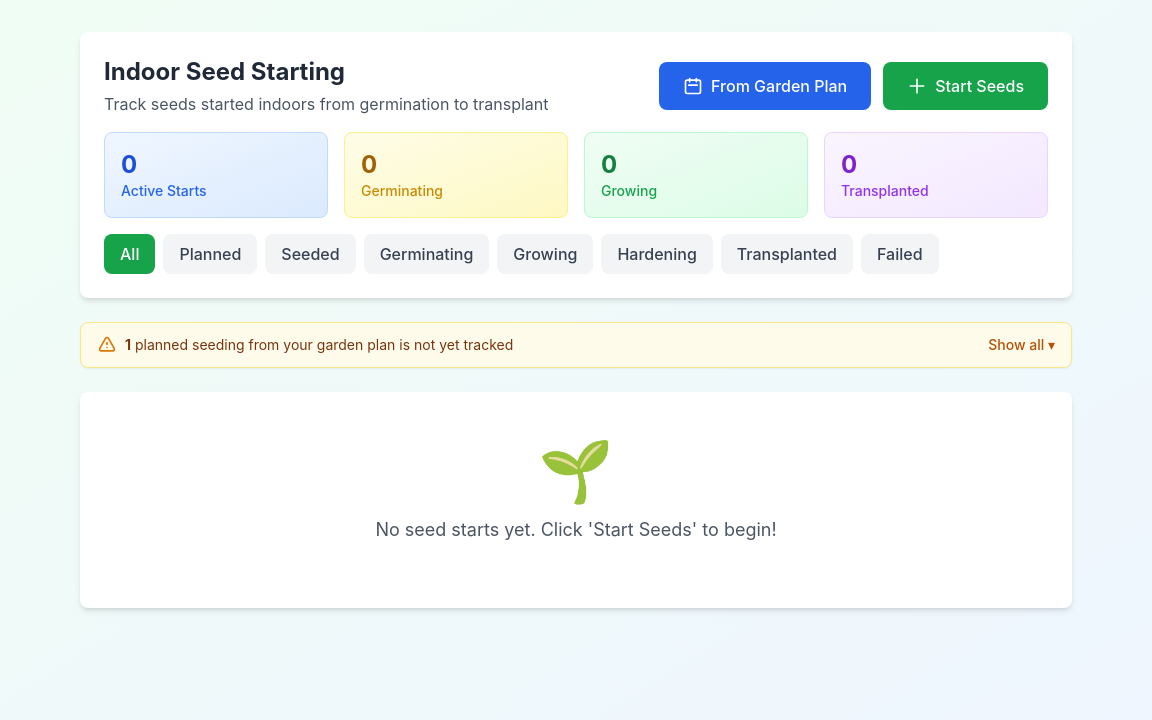
IndoorSeedStarts — plan-only seedings banner › Start tracking POSTs the correct body, removes banner row, and adds the new card to the grid
Click the button "Show all ▾". click: (1022, 345)
box: [988,335,1055,355]
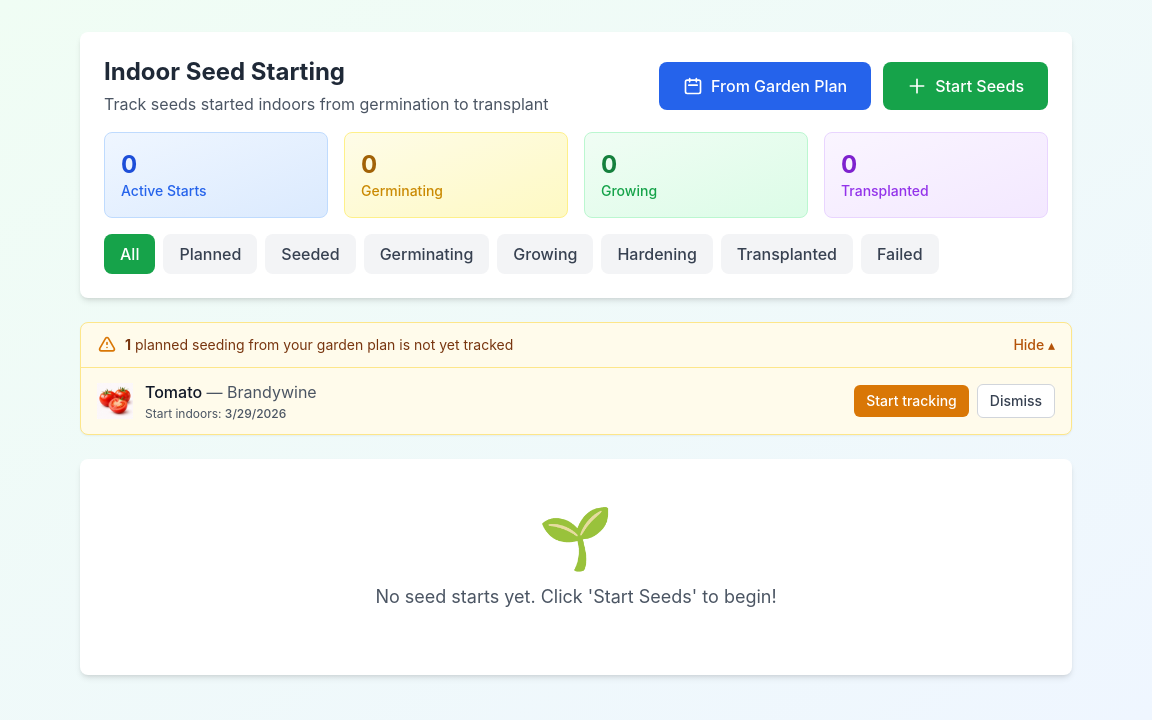
Click the button "Start tracking". click: (912, 401)
box: [854,385,969,417]
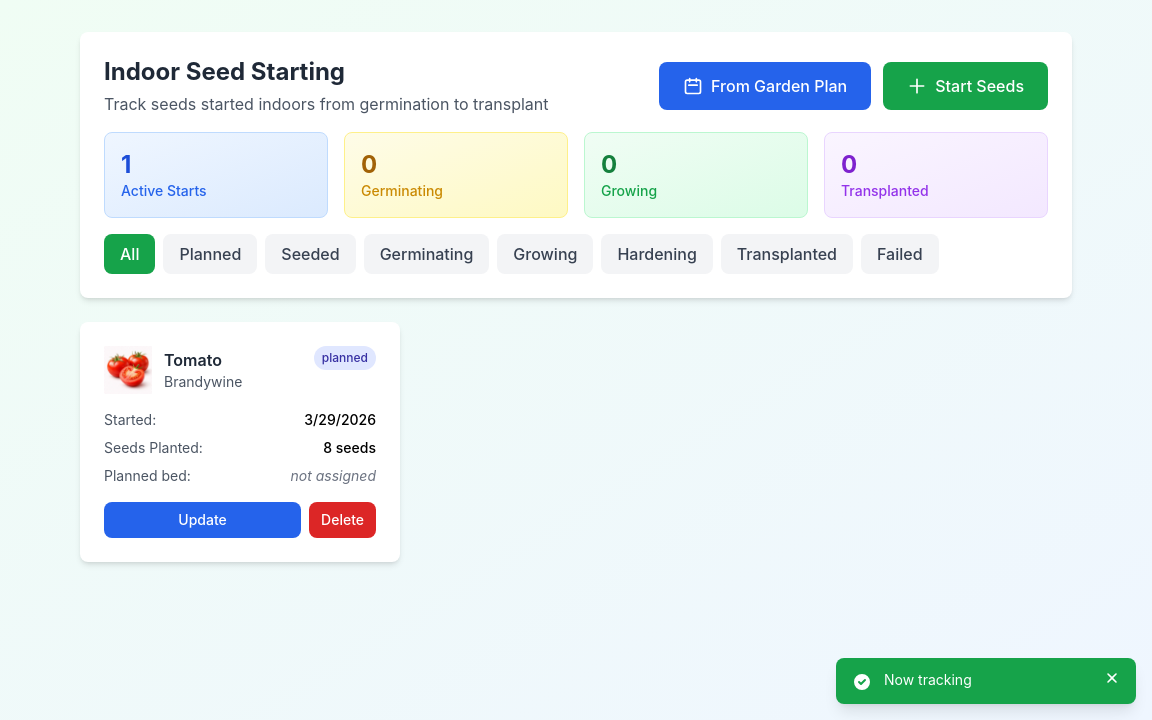
Now the list item with test id "plan-only-row-301" is gone
Now the element with test id "iss-card-999" is shown, box [80,322,400,562]
